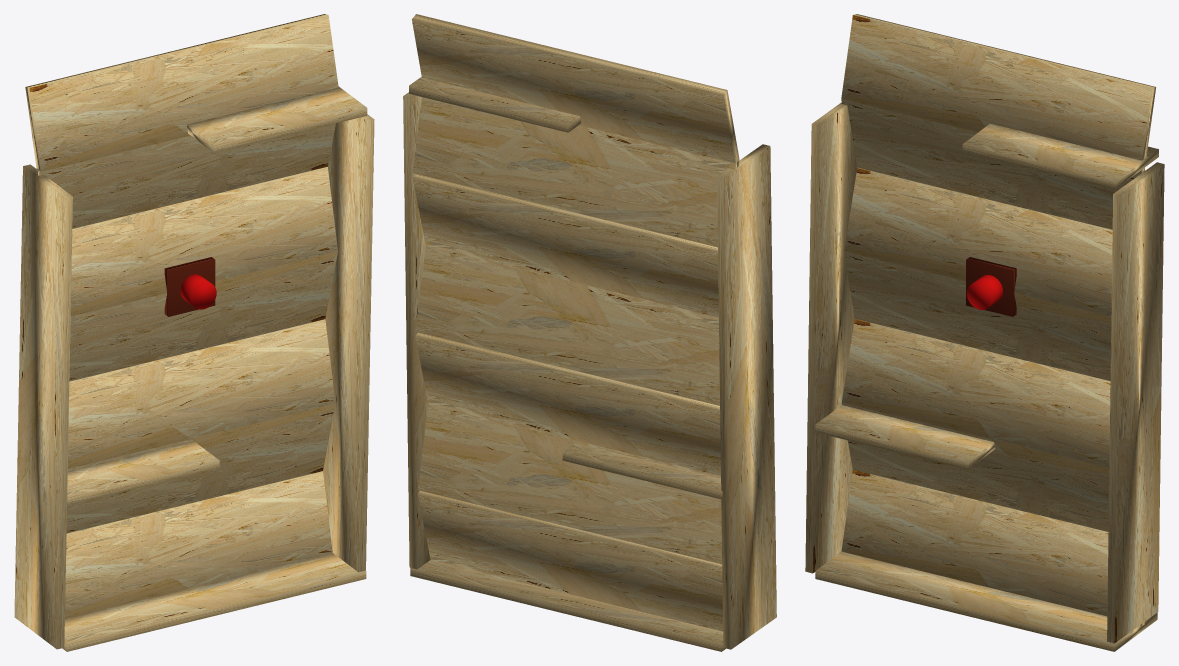
Rendered from robocup_arena_ramp_field.obj.
3 renders of one model, left to right at view 1: azimuth 30°, elevation 25°; view 2: azimuth 150°, elevation 25°; view 3: azimuth 330°, elevation 25°, orthographic. The views are drawn at different scales.
Visible parts, largest first — view 1: Cube.011, Cube.013, Cylinder; view 2: Cube.011; view 3: Cube.011, Cube.013, Cylinder.
Part boxes in pixels (x1,y1,x2,y2): Cube.011: [14, 14, 374, 651]; Cube.013: [164, 257, 215, 316]; Cylinder: [180, 274, 216, 309]; Cube.011: [403, 14, 776, 651]; Cube.011: [805, 14, 1164, 651]; Cube.013: [966, 257, 1016, 316]; Cylinder: [967, 275, 1002, 309].
Size of the model in its own units: 4.33 by 7 by 1.05.
3 materials, 1 textured.
